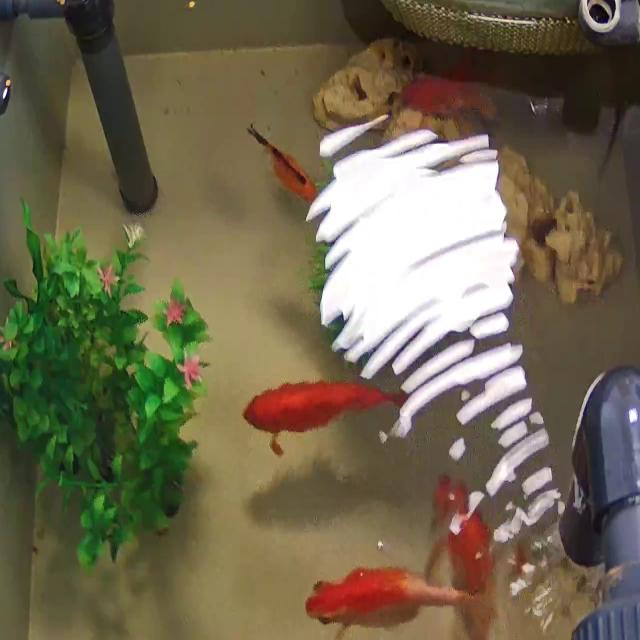fish: (416, 474, 510, 640), (294, 559, 464, 637), (225, 380, 406, 449), (227, 115, 325, 212), (392, 69, 489, 121)
